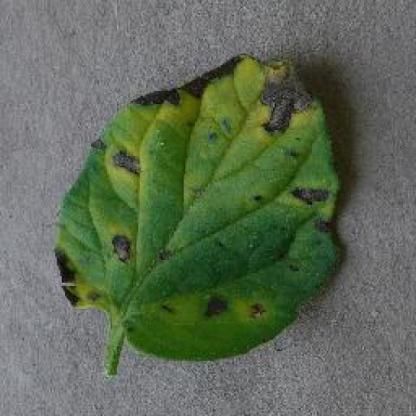Tomato_Blight: (51, 52, 341, 359)
